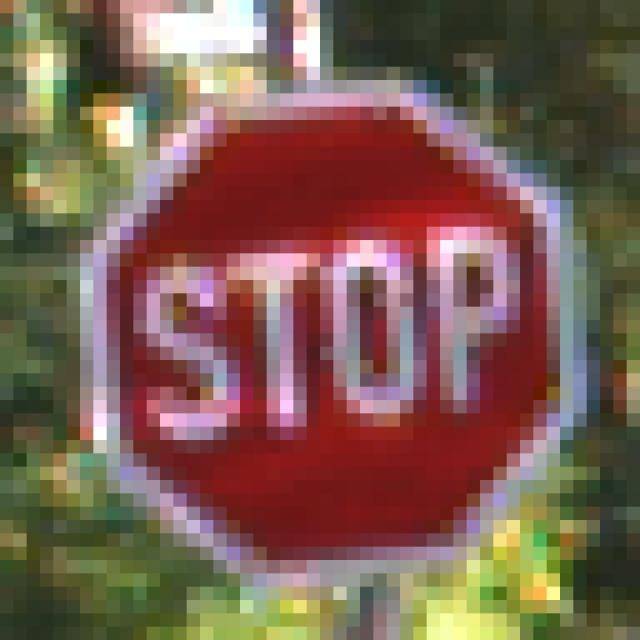STOP: (81, 68, 574, 574)
